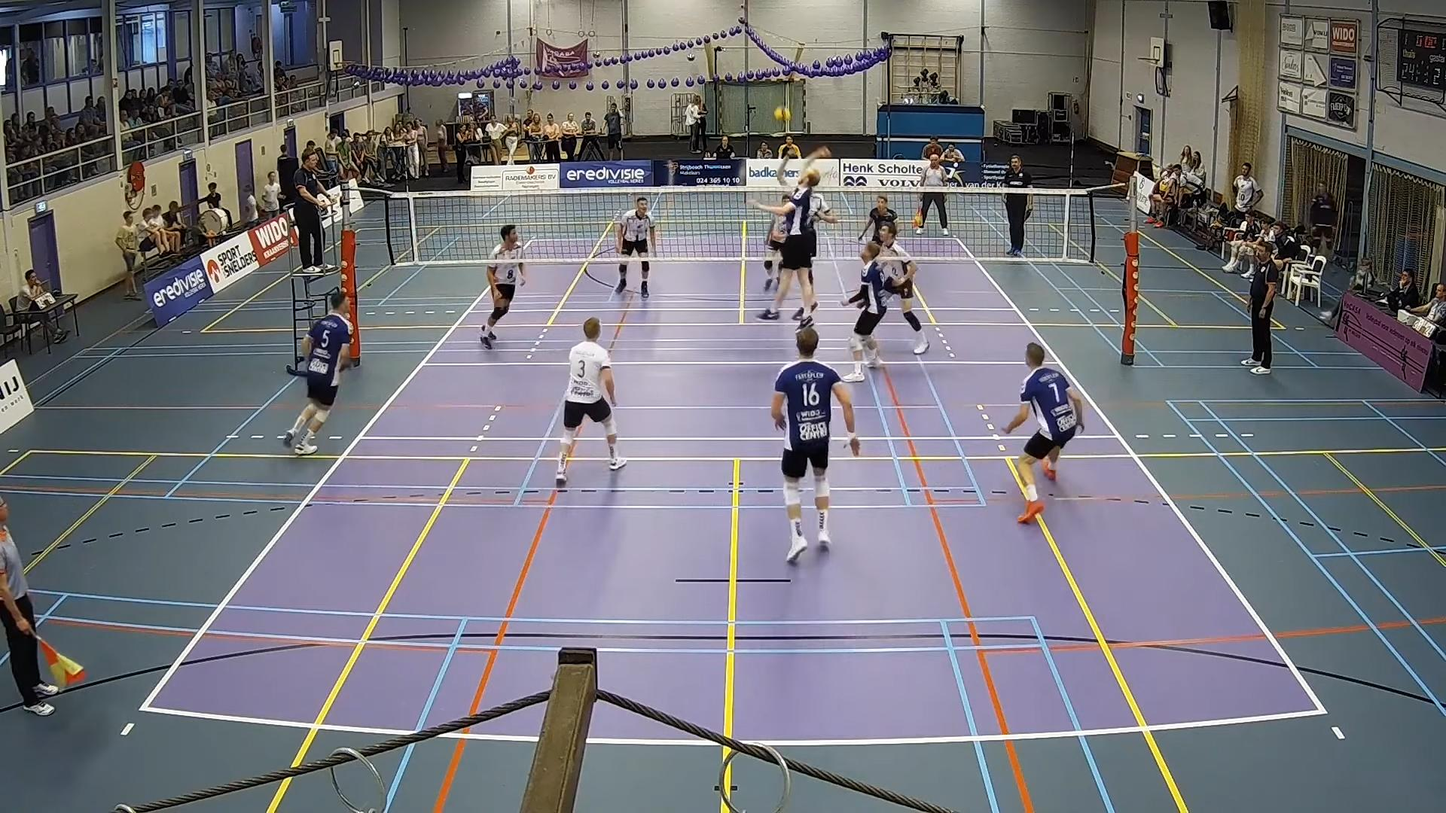attacco: (746, 146, 842, 327)
